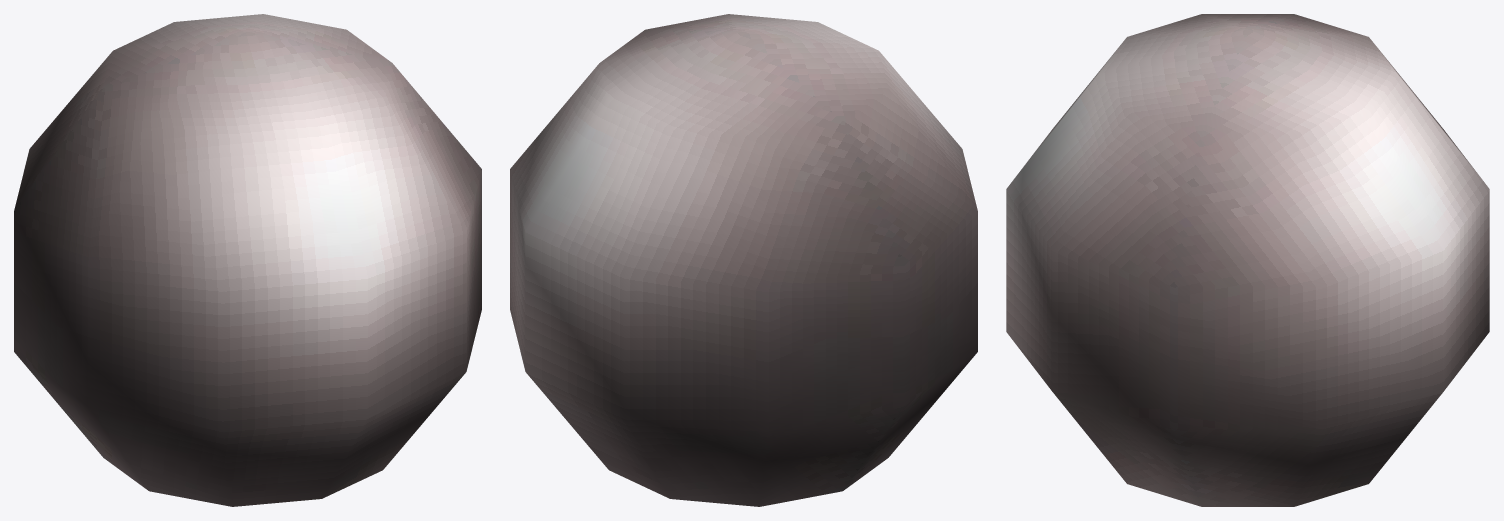
The model's file is xiahouyuan_paodan.FBX.
3 renders of one model, left to right at view 1: azimuth 30°, elevation 25°; view 2: azimuth 150°, elevation 25°; view 3: azimuth 270°, elevation 25°, orthographic.
Parts seen in each view (by area): view 1: paodan; view 2: paodan; view 3: paodan.
Part boxes in pixels (x1,y1,x2,y2): paodan: (14,14,481,506); paodan: (510,14,977,506); paodan: (1006,14,1489,506).
Bounding box in the file's own units: 7.13 × 7.88 × 7.49.
1 material, 1 textured.
